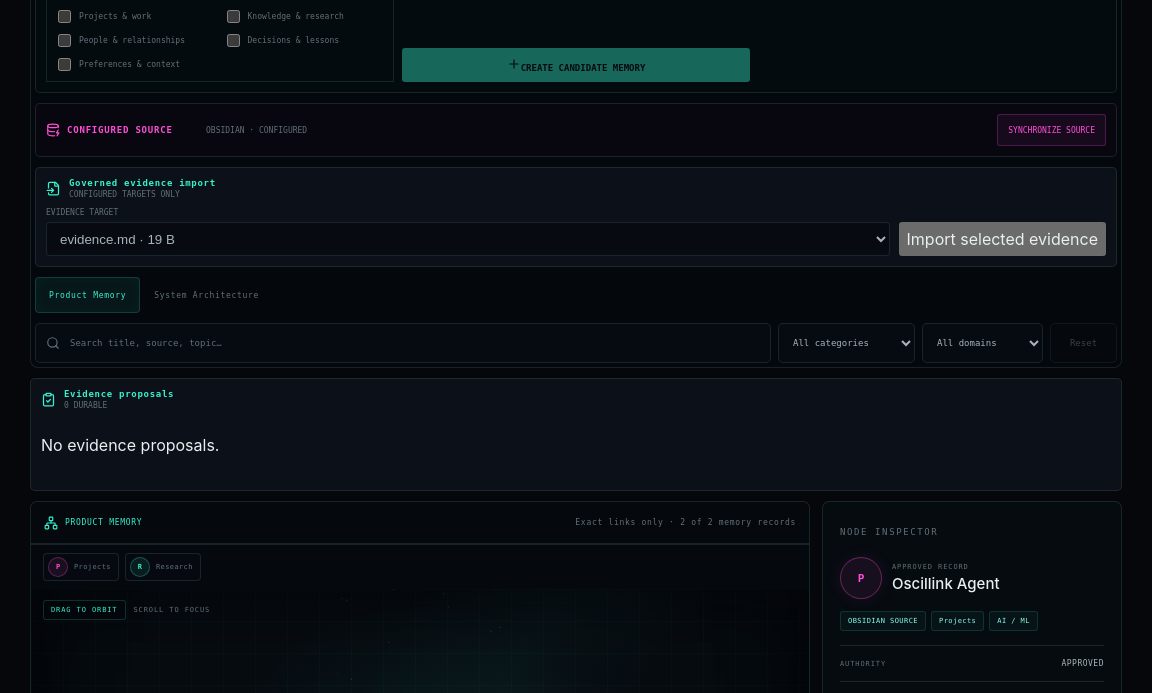
Test: MemoryWorkspace › combines search, category, and domain filters without retaining hidden focus
(page scrolled)
Expected: the heading "Oscillink Agent" is shown, 892,574 -> 1000,593
Step 1. Select "R · Research" in the dropdown named "Filter by category" → [846, 343], box 778,323 -> 915,363
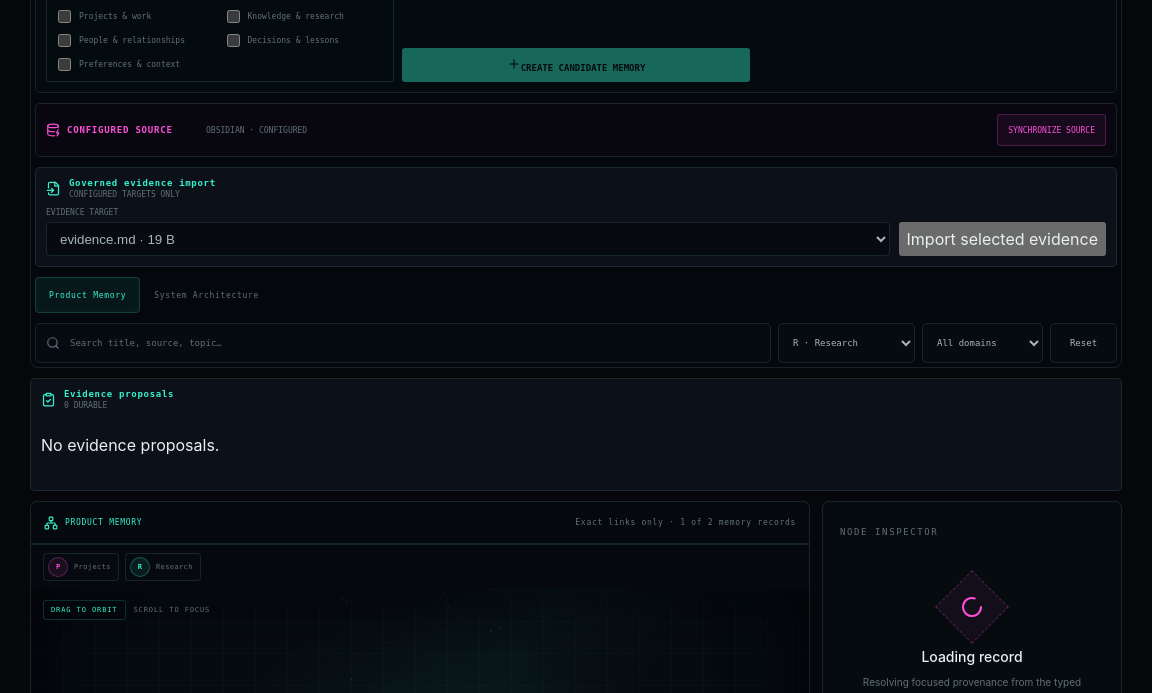
Step 2. Select "Engineering" in the dropdown named "Filter by domain" → [982, 343], box 922,323 -> 1043,363
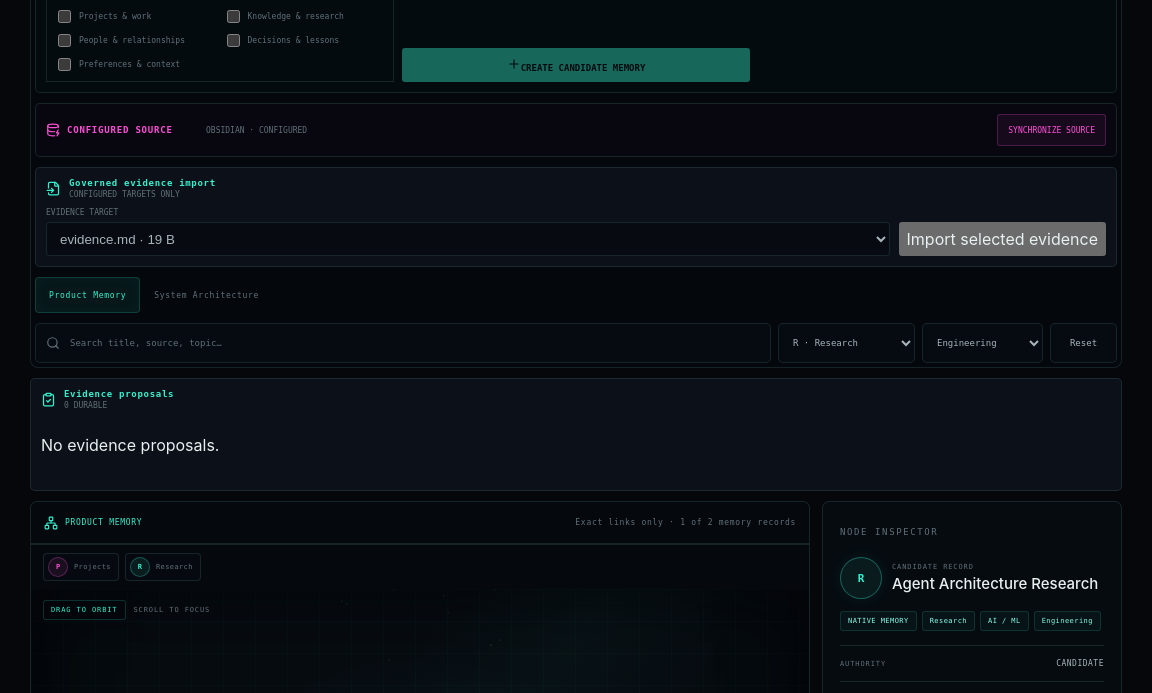
Now the text "Exact links only · 1 of 2 memory records" is shown, box 575,518 -> 796,527
Now the heading "Agent Architecture Research" is shown, box 892,575 -> 1104,593
Step 3. Type "Oscillink" into the search field named "Search product memory" → [403, 343], box 35,323 -> 771,363
(page scrolled)
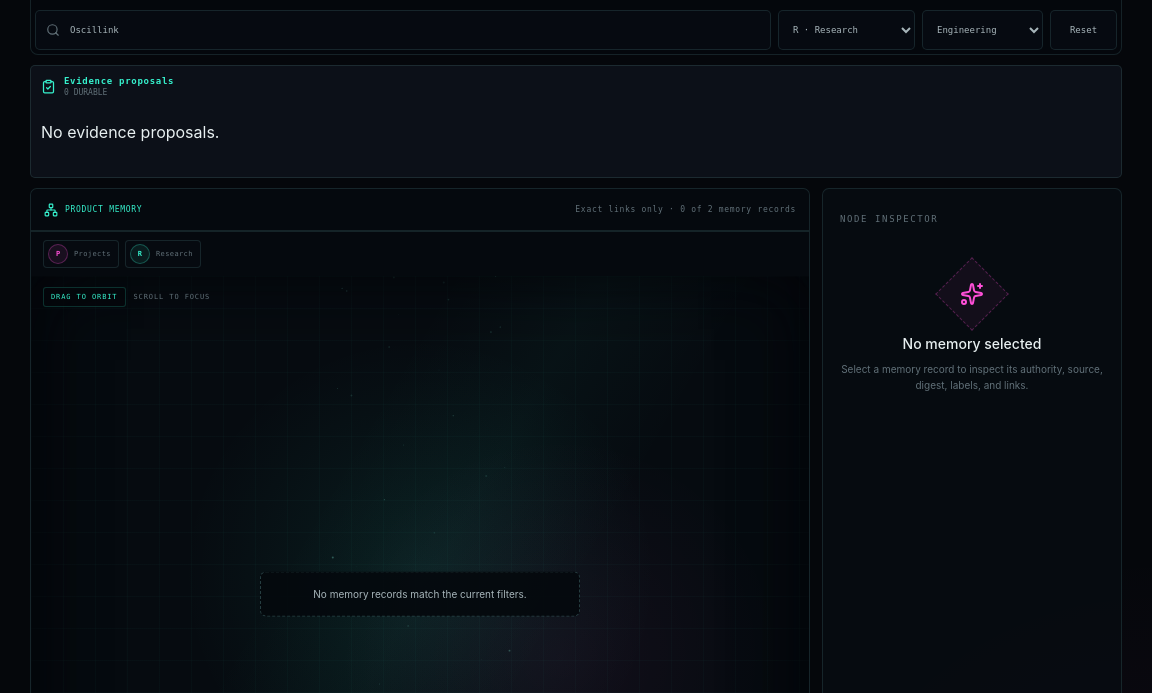
Now the text "No memory records match the current filters." is shown, box 260,572 -> 580,616
Now the heading "No memory selected" is shown, box 903,335 -> 1042,352
